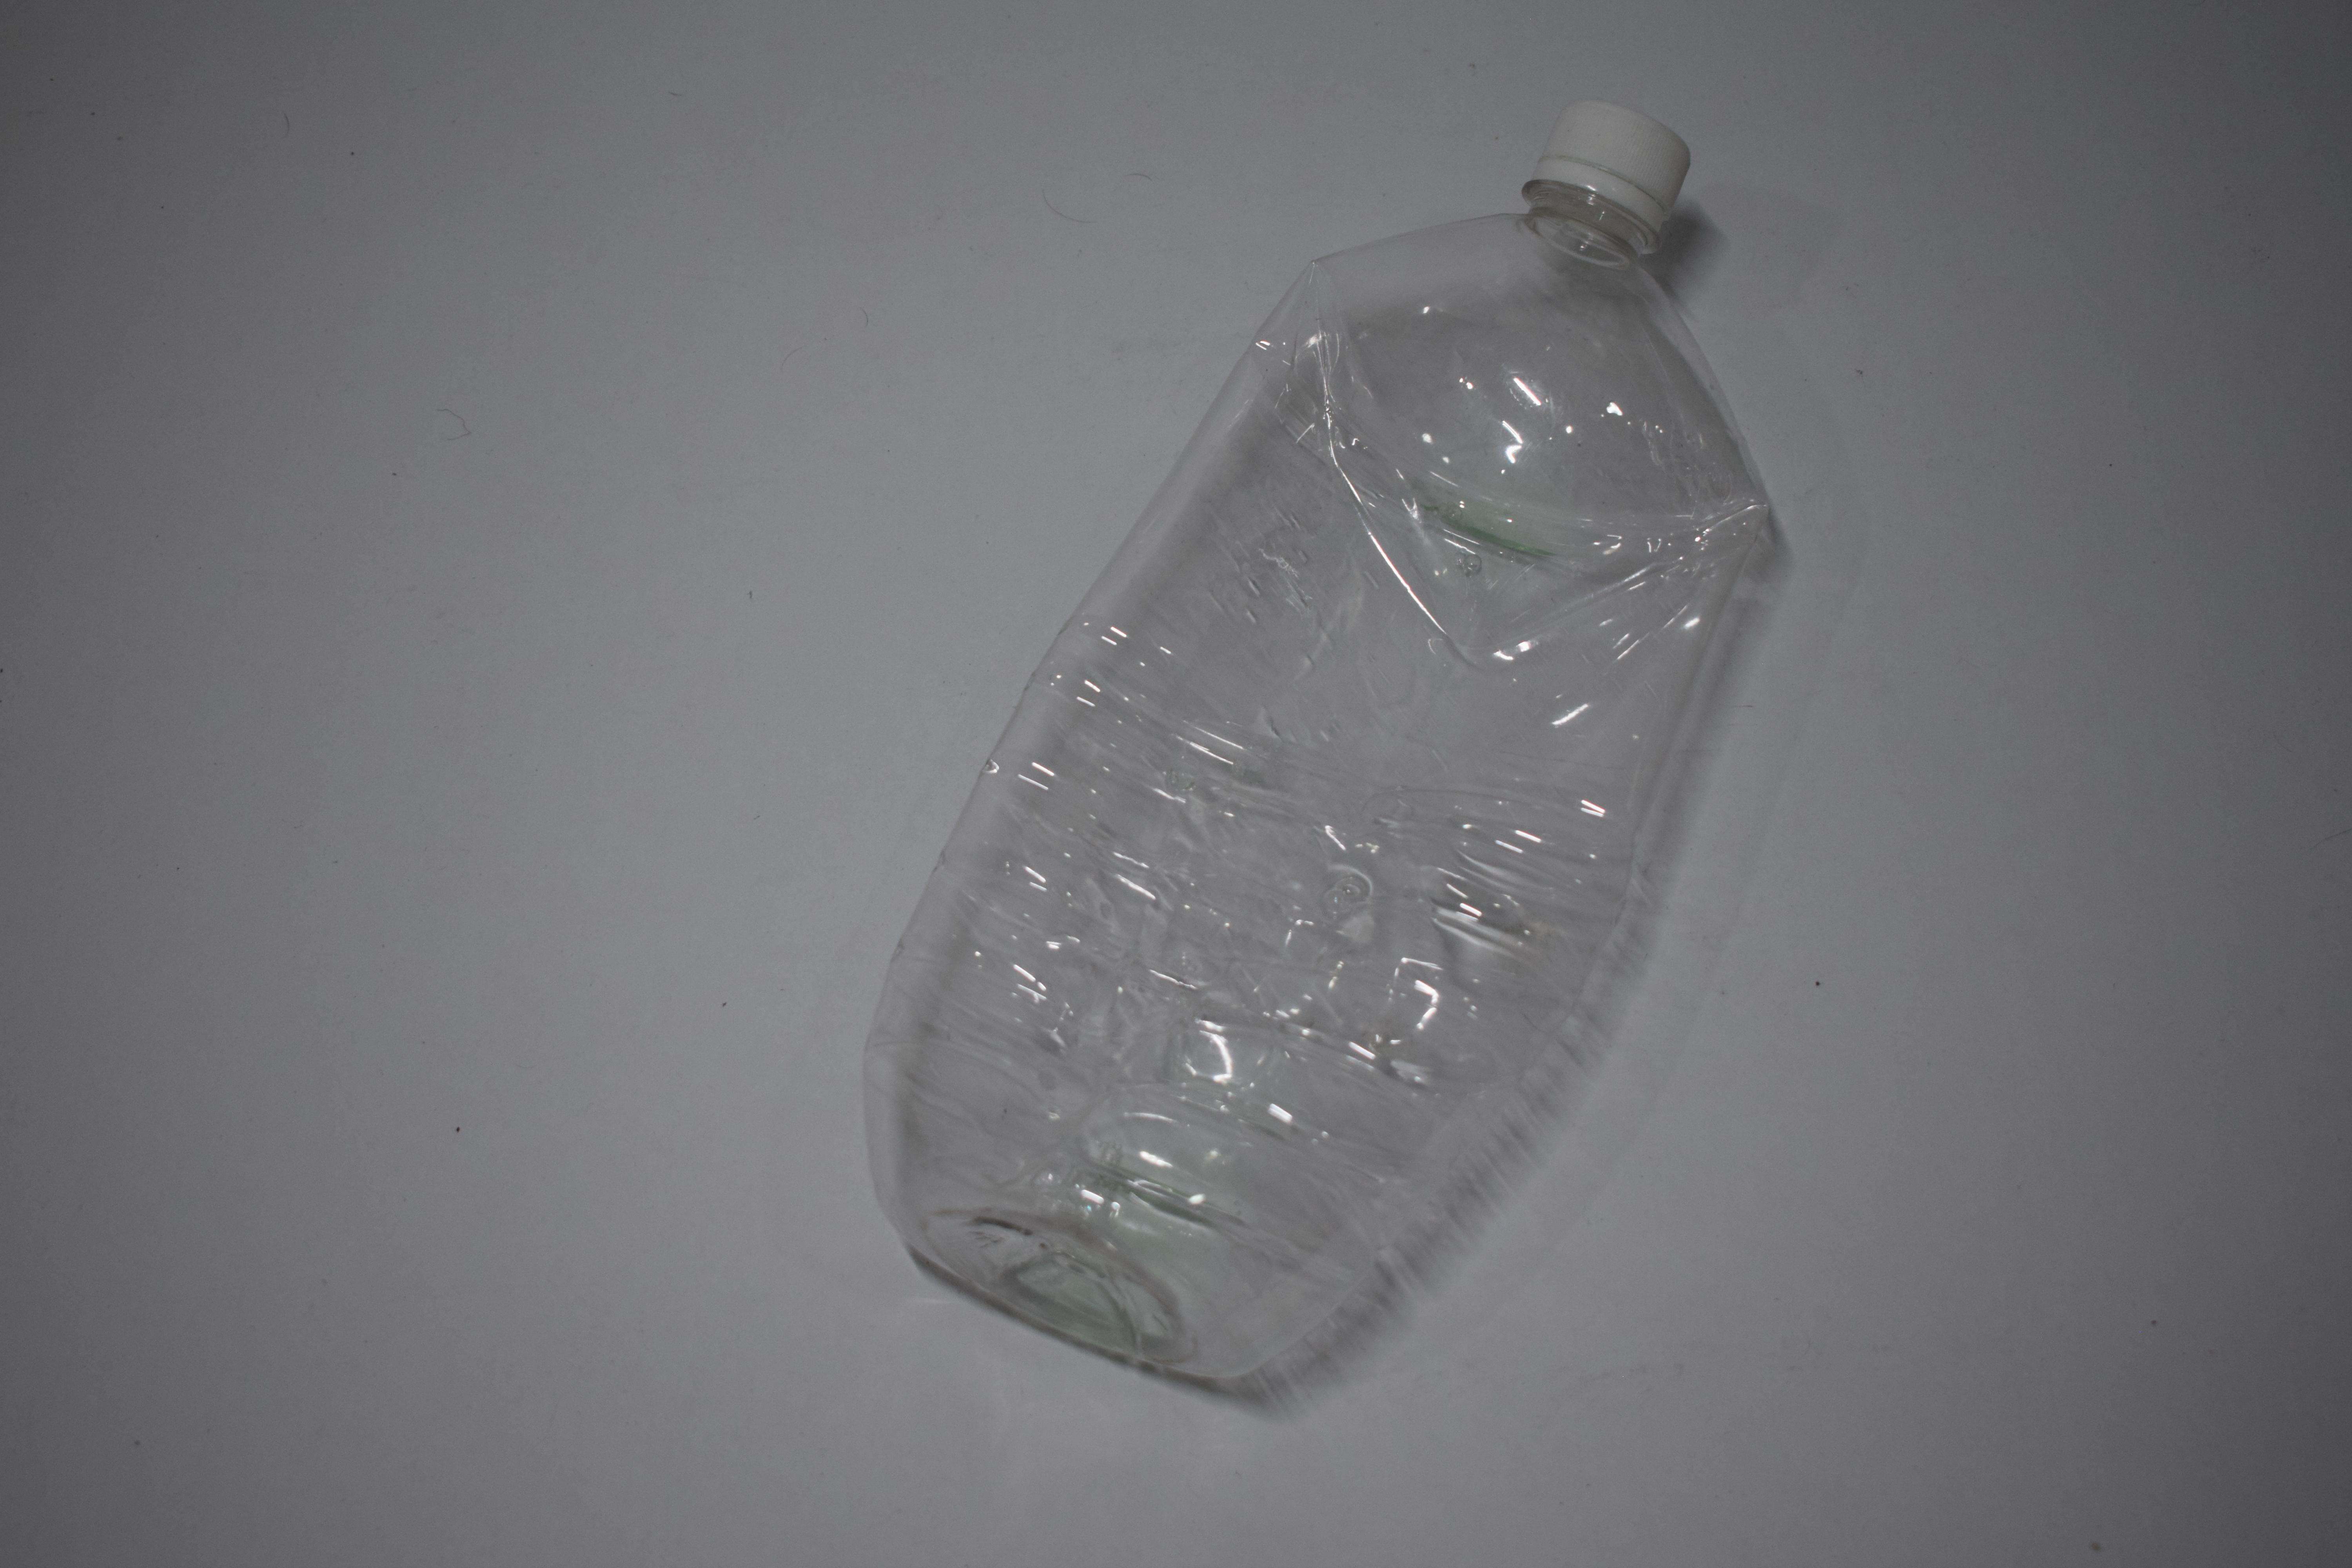bottle: (0, 75, 632, 1404)
